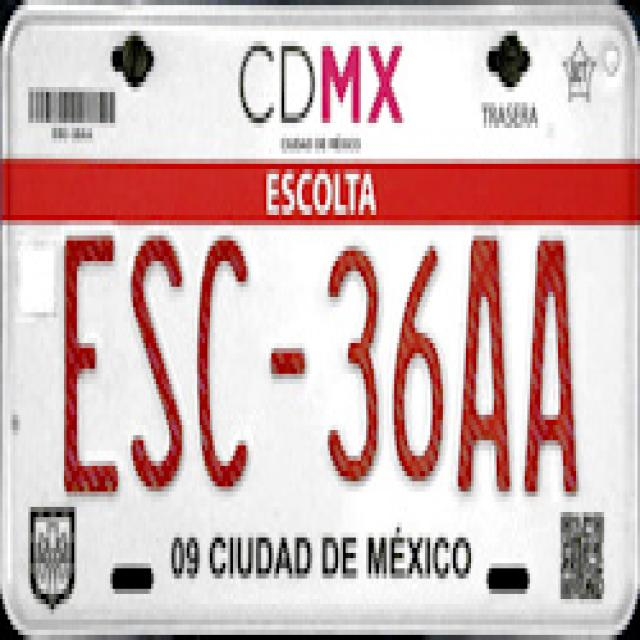placa: (53, 220, 612, 507)
